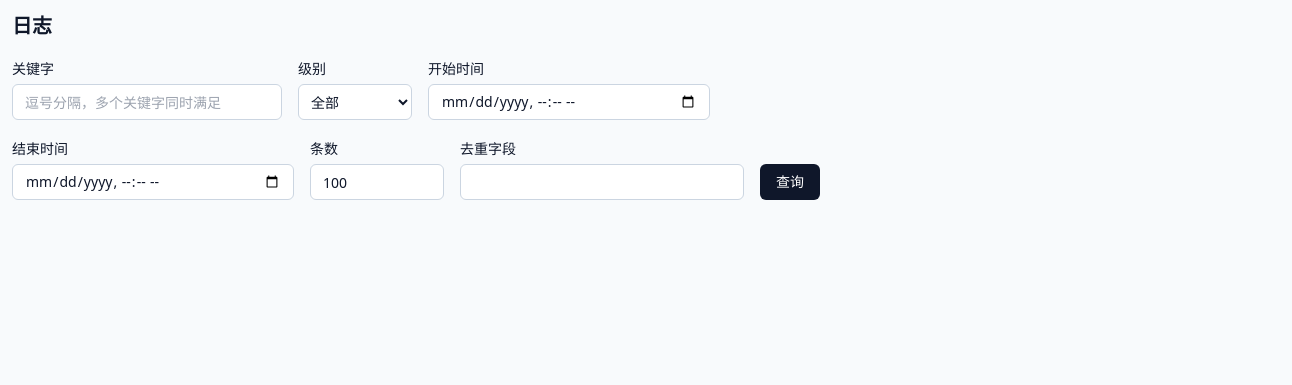
queries with the filled filters, renders rows, and expands extra fields on click
Type "a,b" into the field labelled "关键字" at [147, 102], box x1=12 y1=84 x2=282 y2=120
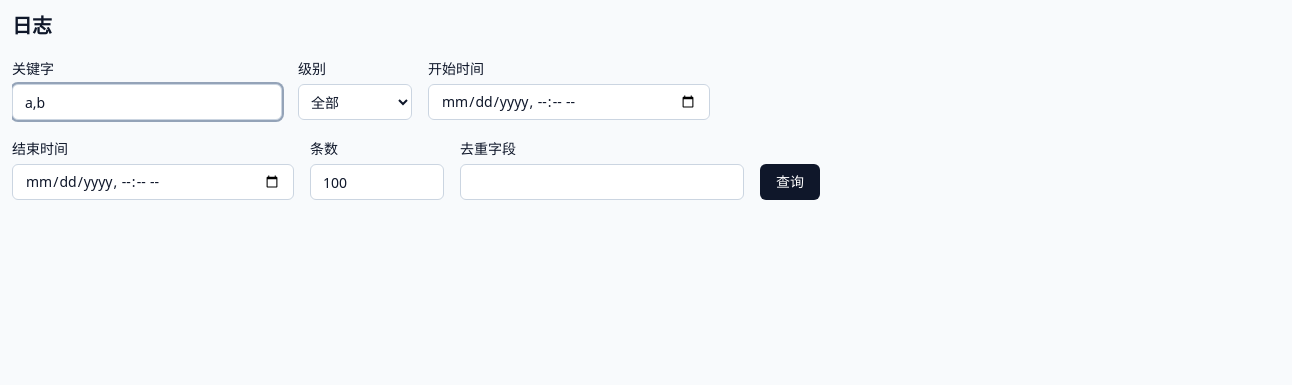
Select "WARN" in the dropdown labelled "级别" at [355, 102], box x1=298 y1=84 x2=412 y2=120
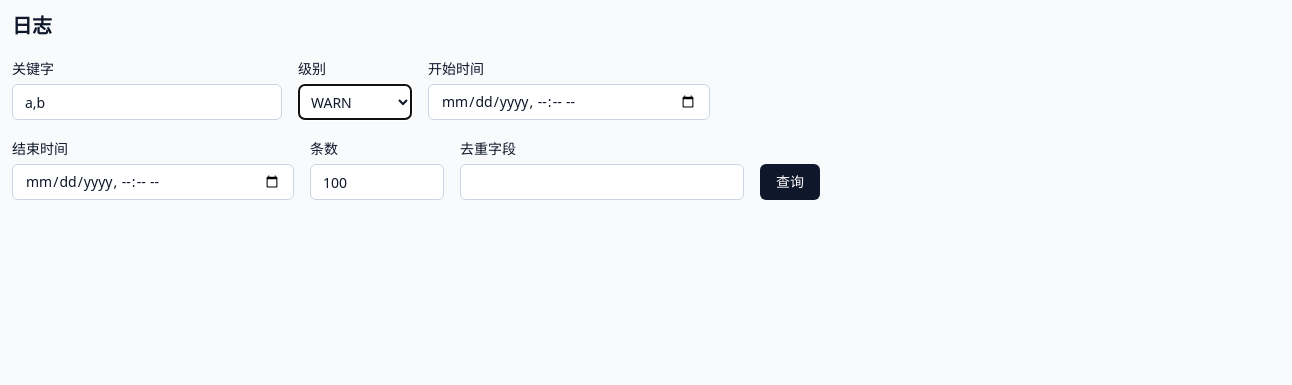
Click the button "查询" at [790, 182], box x1=760 y1=164 x2=820 y2=200
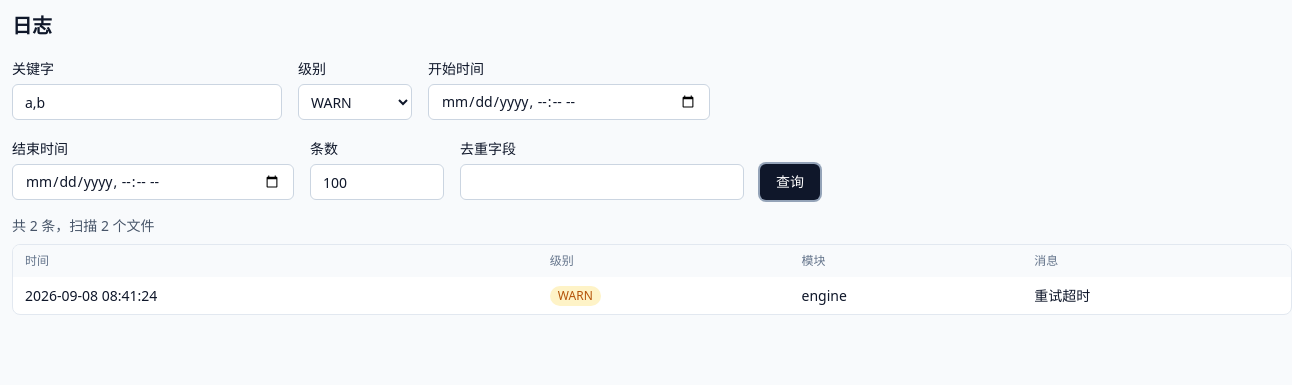
Expected: the text "重试超时" is shown
Expected: the text "engine" is shown, x1=790 y1=277 x2=1022 y2=314
Expected: the text "WARN" is shown, x1=550 y1=286 x2=601 y2=306
Click the text "重试超时" at [1062, 295], box x1=1022 y1=277 x2=1291 y2=314
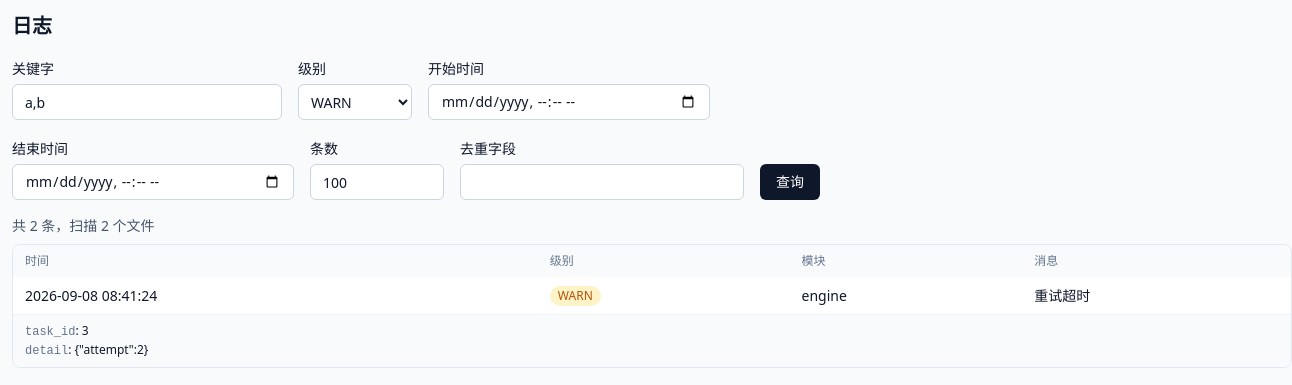
Expected: the text "task_id" is shown, x1=25 y1=325 x2=75 y2=339
Expected: the text "3" is shown, x1=82 y1=322 x2=89 y2=339
Expected: the text "detail" is shown, x1=25 y1=344 x2=68 y2=358
Click the text "重试超时" at [1062, 295], box x1=1022 y1=277 x2=1291 y2=314
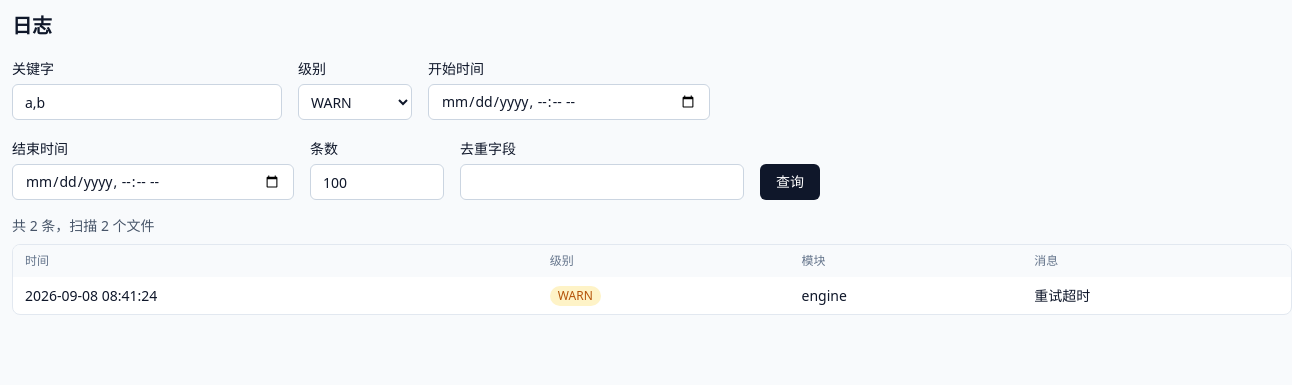
Expected: the text "task_id" is gone
